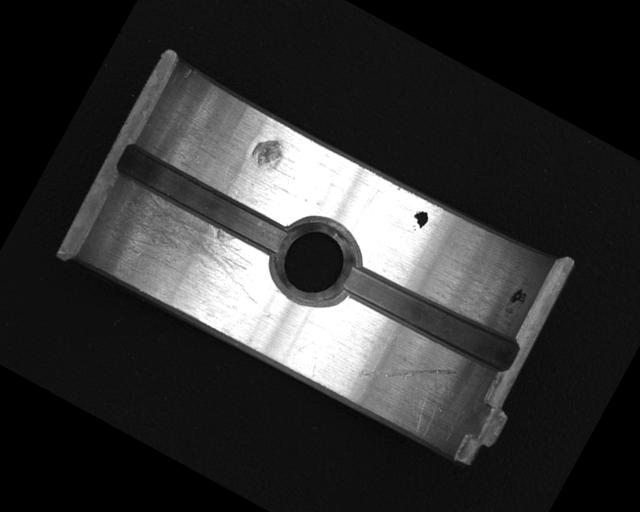blot: (500, 284, 531, 322), (406, 206, 432, 235)
bruise: (244, 130, 290, 177)
gap: (334, 250, 524, 382), (112, 139, 294, 262)
hole: (258, 205, 371, 319)
nick: (355, 327, 459, 417)
scratch: (92, 178, 279, 327)
